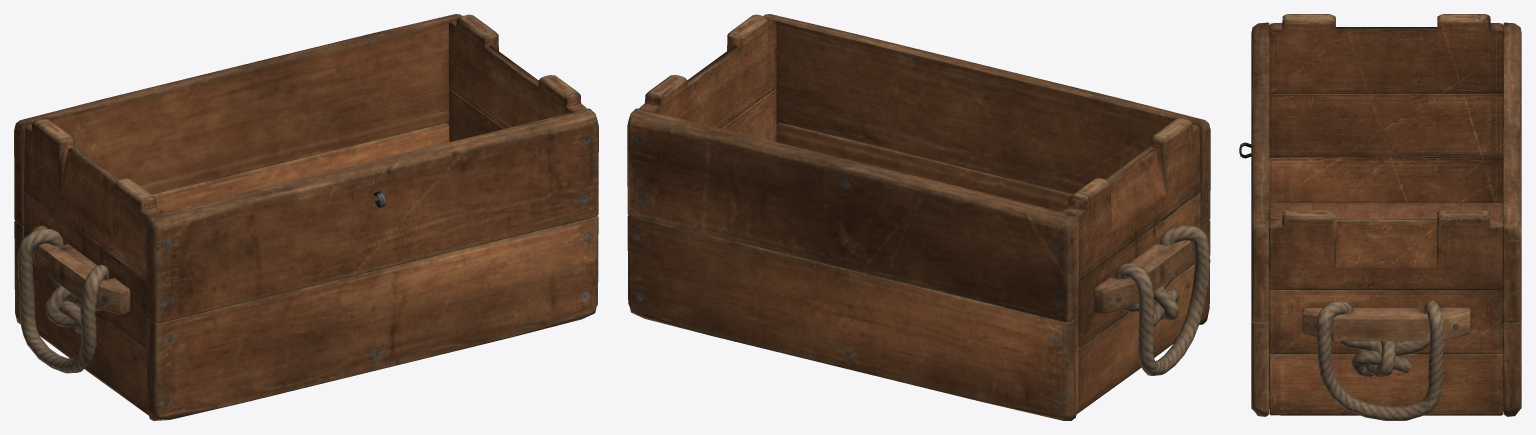
File: wooden_crate_01.glb
3 views of the same model, side by side, from view 1: azimuth 30°, elevation 25°; view 2: azimuth 150°, elevation 25°; view 3: azimuth 270°, elevation 25° (orthographic). The views are drawn at different scales.
Visible parts, largest first — view 1: wooden_crate_01; view 2: wooden_crate_01; view 3: wooden_crate_01.
Part boxes in pixels (box(x1,y1,x2,y2)): wooden_crate_01: box(14, 14, 598, 420); wooden_crate_01: box(627, 14, 1210, 420); wooden_crate_01: box(1239, 14, 1521, 420).
Bounding box in the file's own units: 0.8253 × 0.3219 × 0.4085.
Materials: 1 (1 with a texture image).
